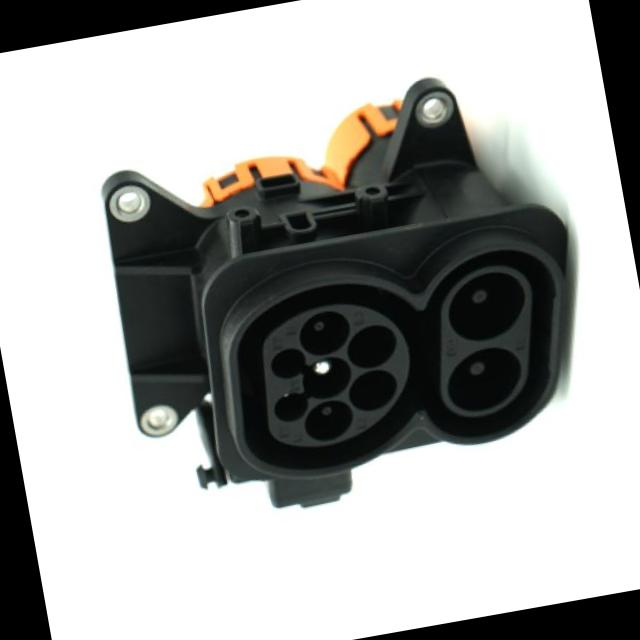inlet: (263, 303, 409, 445)
inlet-above-left: (274, 391, 308, 420)
inlet-above-right: (270, 347, 305, 377)
inlet-below-left: (348, 368, 396, 410)
inlet-below-right: (347, 324, 395, 367)
inlet-center: (302, 355, 350, 397)
inlet-center-left: (304, 399, 351, 439)
inlet-center-right: (299, 309, 349, 354)
